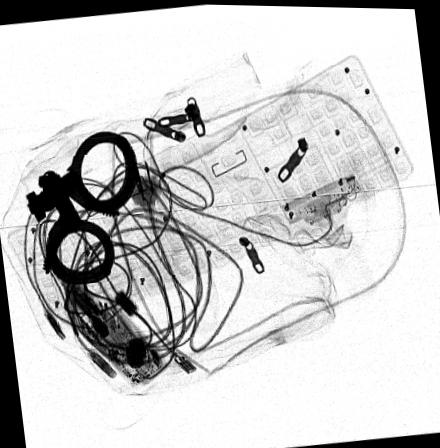HandCuffs: (26, 131, 144, 285)
